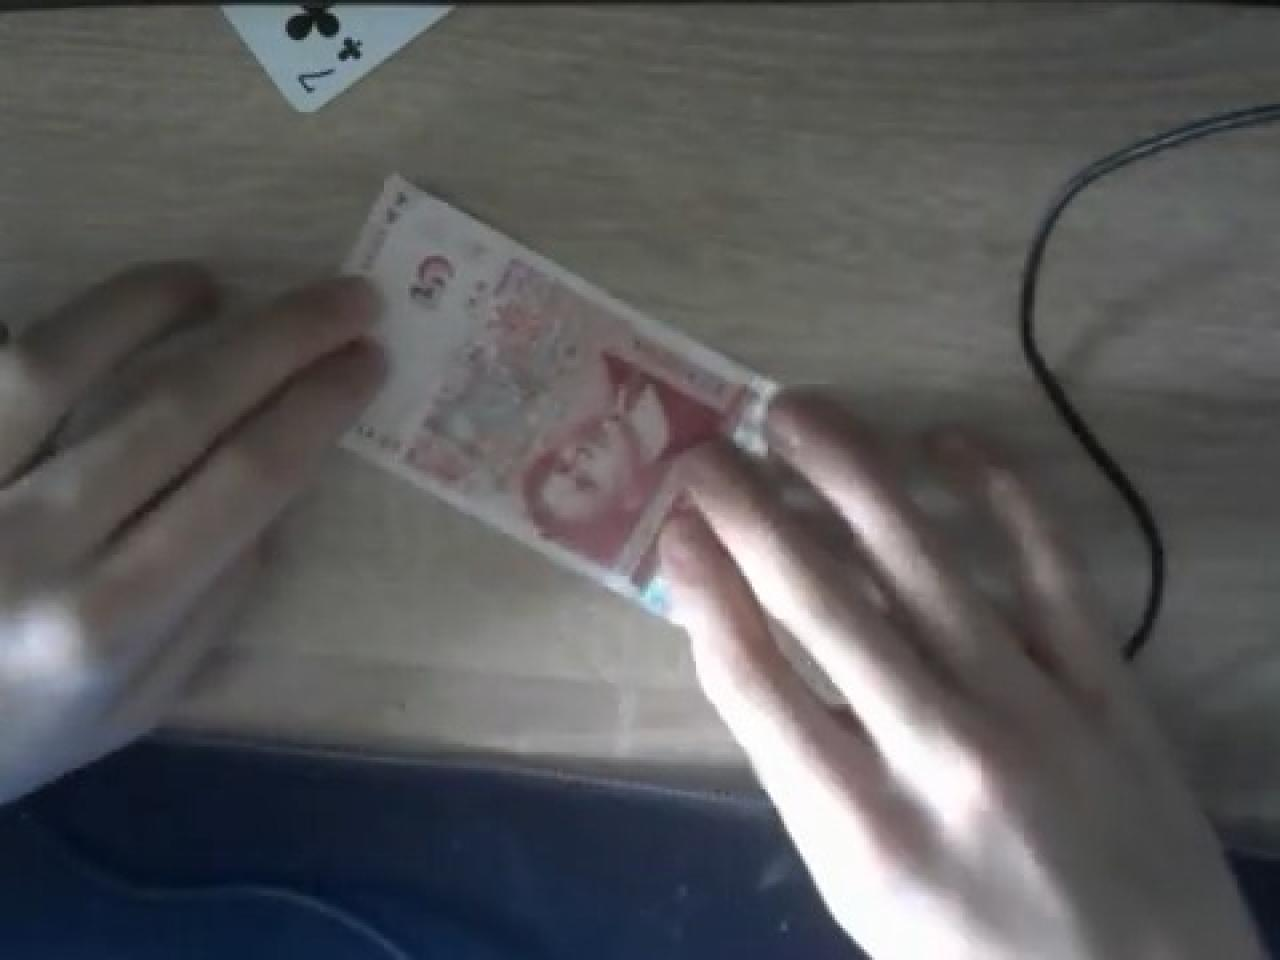5leva: (336, 171, 800, 621)
